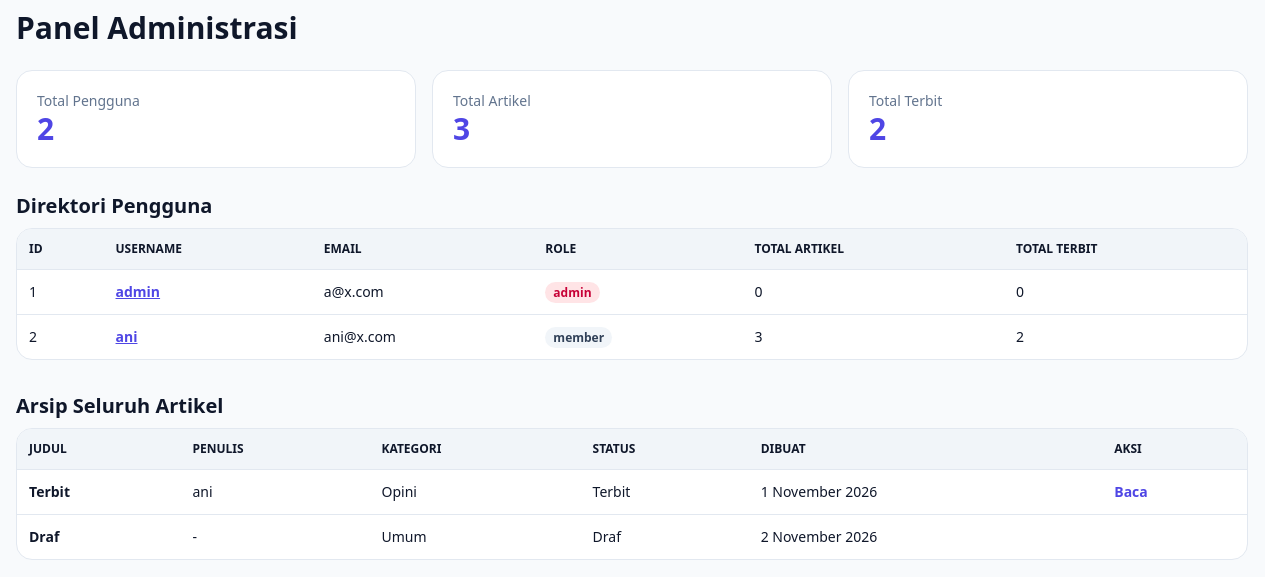
AdminDashboard › filter artikel per pengguna lalu tampilkan semua
The image size is (1265, 577).
What coordinates should you click on to do the following:
click the button "ani"
I would click on:
 (126, 337)
Its box is 116,327 -> 137,347.
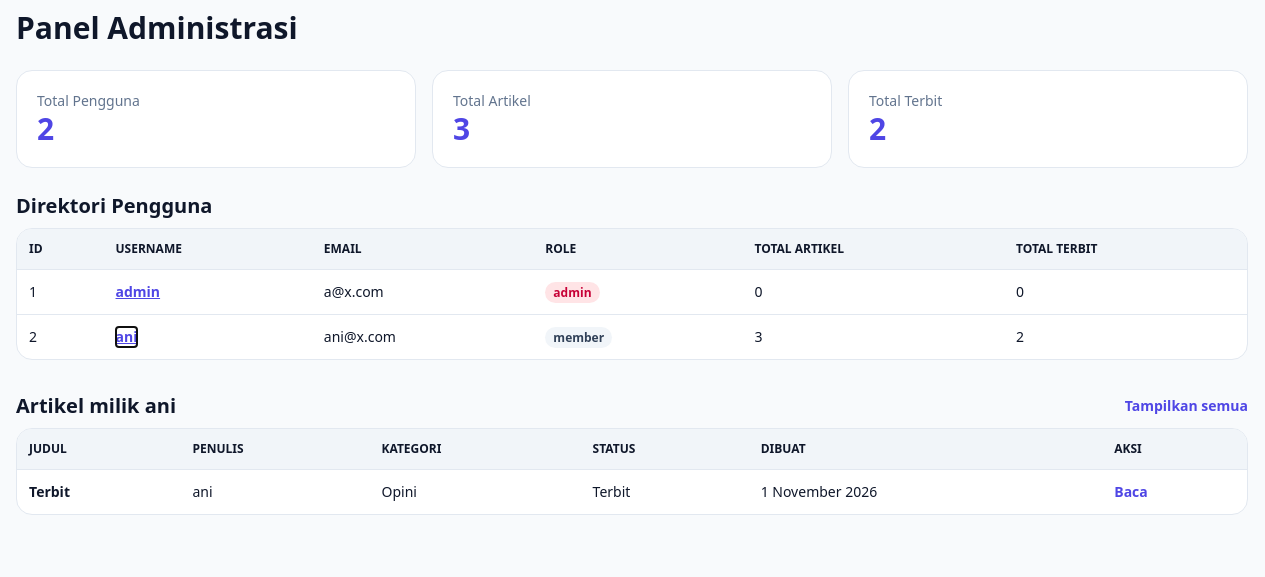
Expected: the heading "Artikel milik ani" is shown, 16,392 -> 176,420
What coordinates should you click on to do the following:
click the button "Tampilkan semua"
I would click on:
 (1186, 406)
Its box is 1125,396 -> 1248,416.
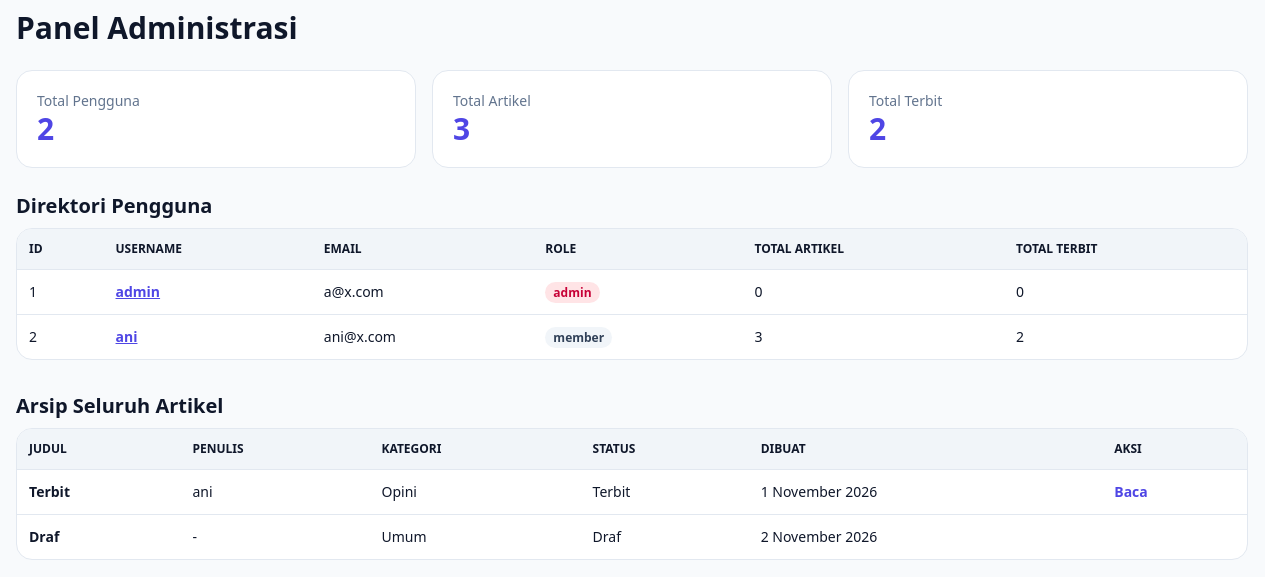
Expected: the heading "Arsip Seluruh Artikel" is shown, 16,392 -> 223,420
